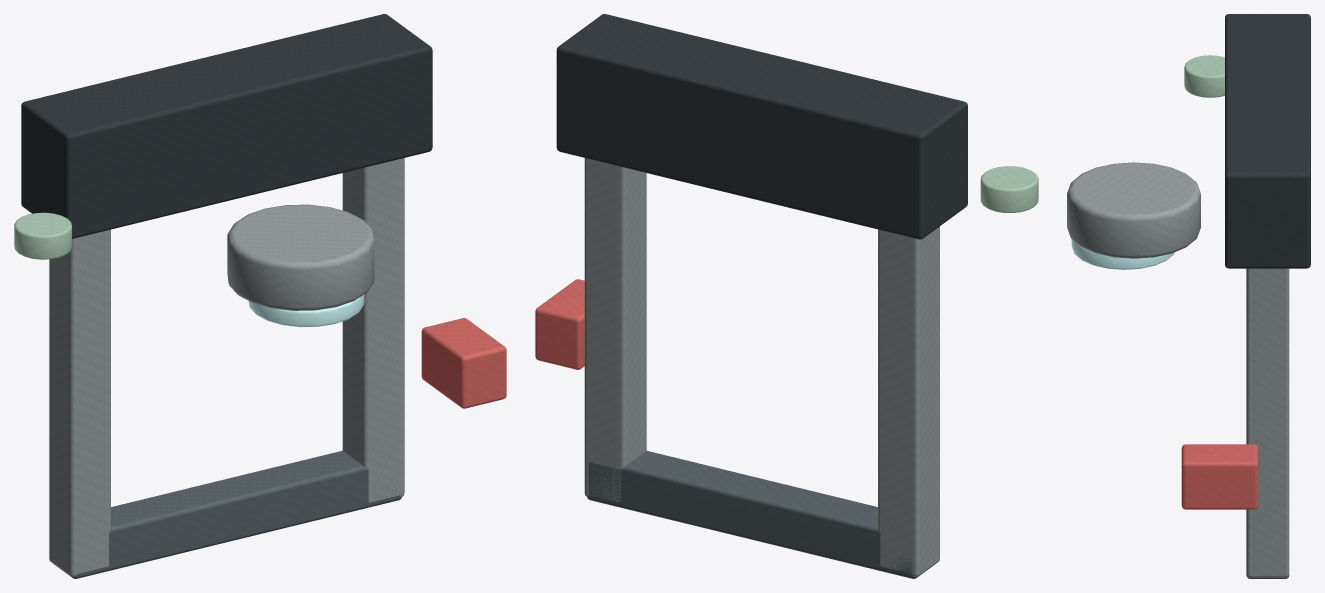
The model's file is DeconShower.glb.
3 views of the same model, side by side, from view 1: azimuth 30°, elevation 25°; view 2: azimuth 150°, elevation 25°; view 3: azimuth 270°, elevation 25° (orthographic). The views are drawn at different scales.
Parts seen in each view (by area): view 1: DeconShower_Mesh; view 2: DeconShower_Mesh; view 3: DeconShower_Mesh.
Boxes of the visible parts, left/top/right/bottom form: DeconShower_Mesh: left=14, top=14, right=506, bottom=578; DeconShower_Mesh: left=535, top=14, right=1038, bottom=578; DeconShower_Mesh: left=1067, top=14, right=1310, bottom=578.
Size of the model in its own units: 1.03 by 0.955 by 0.51.
Materials: 6 (6 with a texture image).
